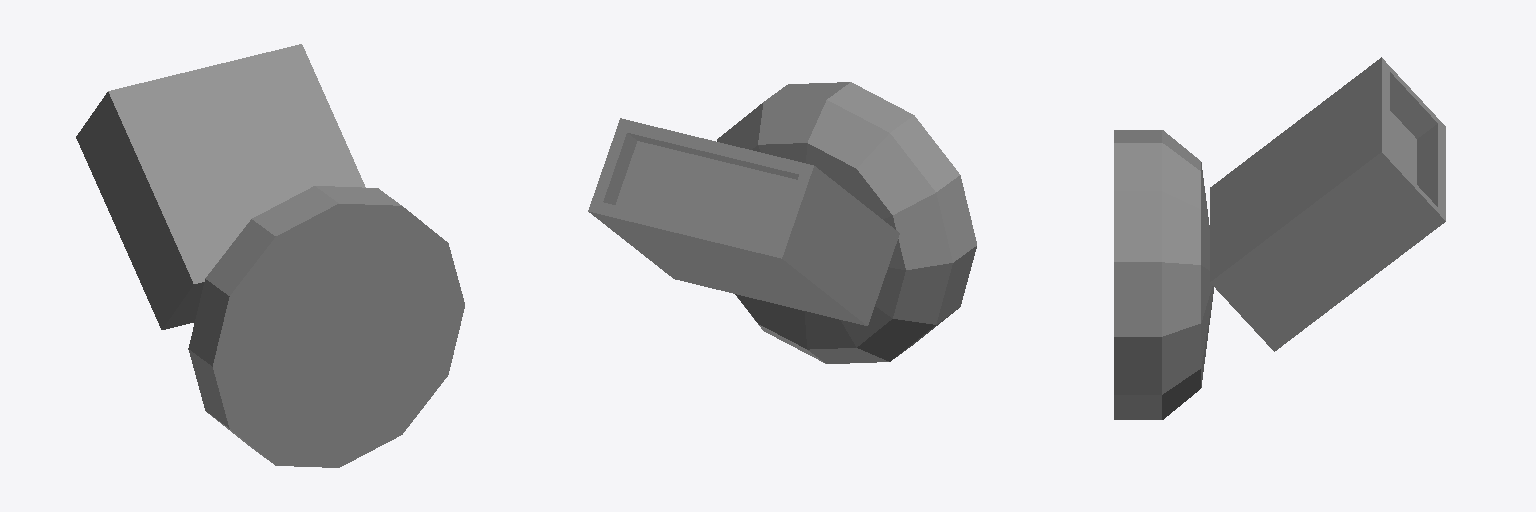
The model's file is missile_turret_01.obj.
3 renders of one model, left to right at view 1: azimuth 30°, elevation 25°; view 2: azimuth 150°, elevation 25°; view 3: azimuth 270°, elevation 25°, orthographic.
Visible parts, largest first — view 1: missile_turret_01; view 2: missile_turret_01; view 3: missile_turret_01.
Boxes of the visible parts, box(x1,y1,x2,y2) form: missile_turret_01: box(76, 44, 464, 467); missile_turret_01: box(588, 82, 976, 363); missile_turret_01: box(1114, 57, 1445, 419).
Bounding box in the file's own units: 404 × 462 × 460.